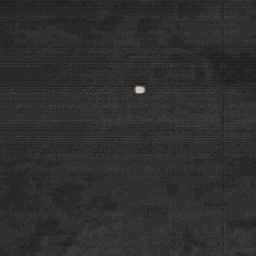Target: (133, 83, 147, 95)
